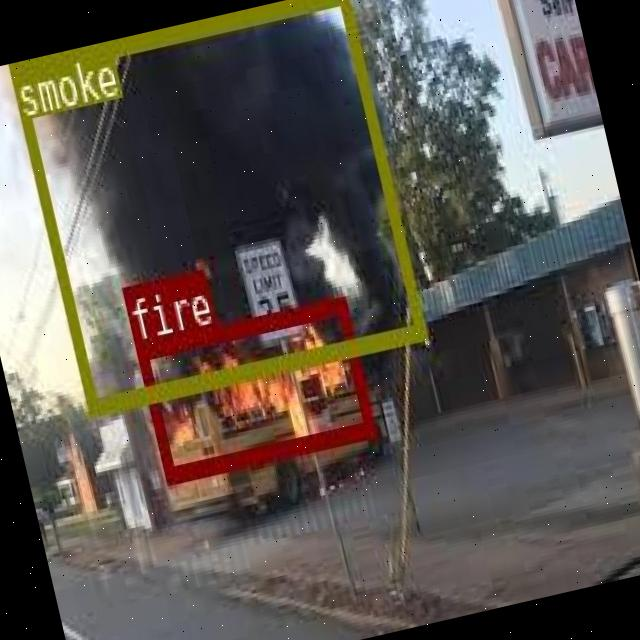fire: (134, 295, 374, 482)
smoke: (6, 0, 423, 411)
